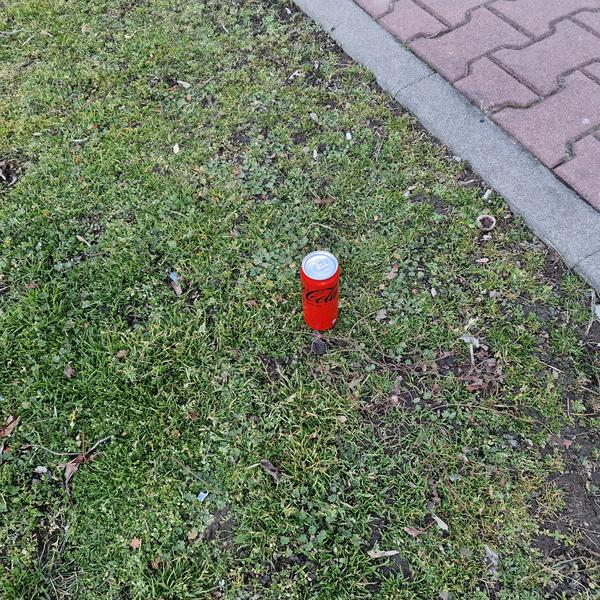can: (301, 250, 339, 333)
